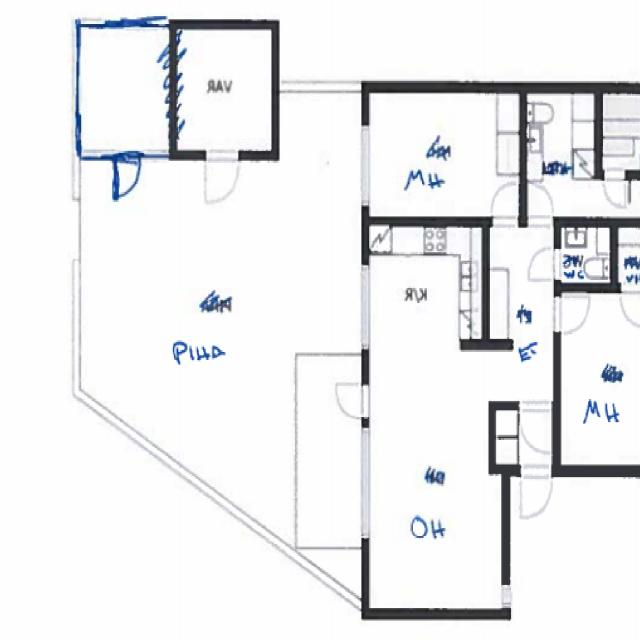door: (520, 465, 552, 518), (520, 401, 551, 452), (207, 150, 238, 200), (554, 297, 588, 331), (335, 384, 369, 418), (112, 150, 138, 194), (492, 186, 517, 227), (529, 186, 552, 227), (530, 248, 560, 278), (621, 282, 640, 323), (604, 170, 625, 206)
